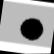correct: (13, 13, 49, 44)
